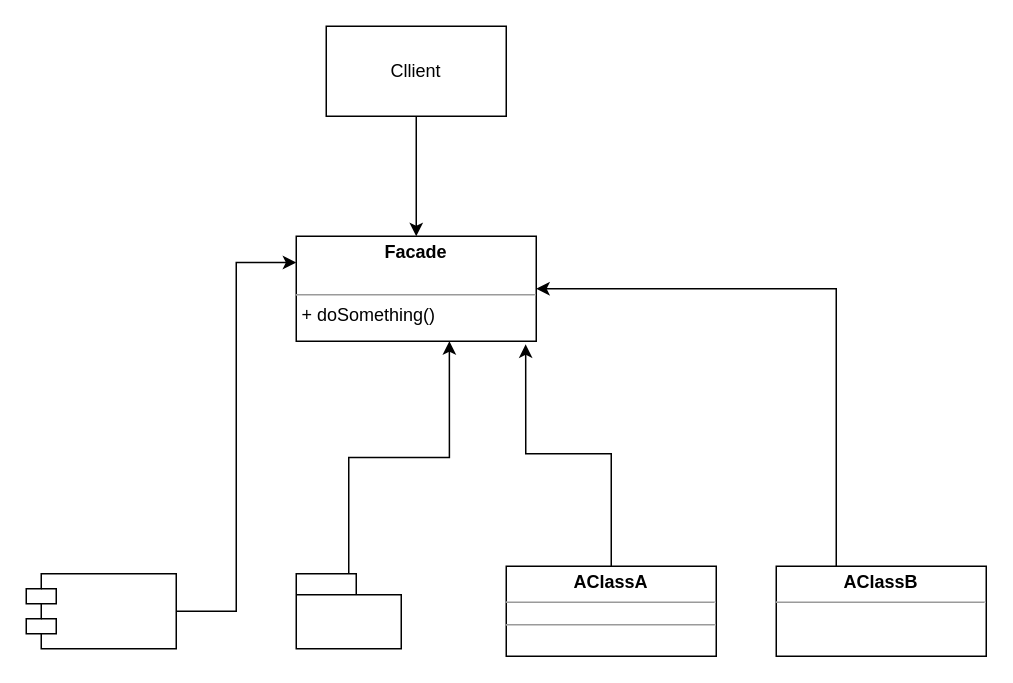
This 1013x683 diagram has some shape labels left out. The shapes that lost their labels are listed below. From the top down, each one's centre as x and y in pixels, then its label:
At pixel 100 610: "AModule".
At pixel 348 610: "APackage".
